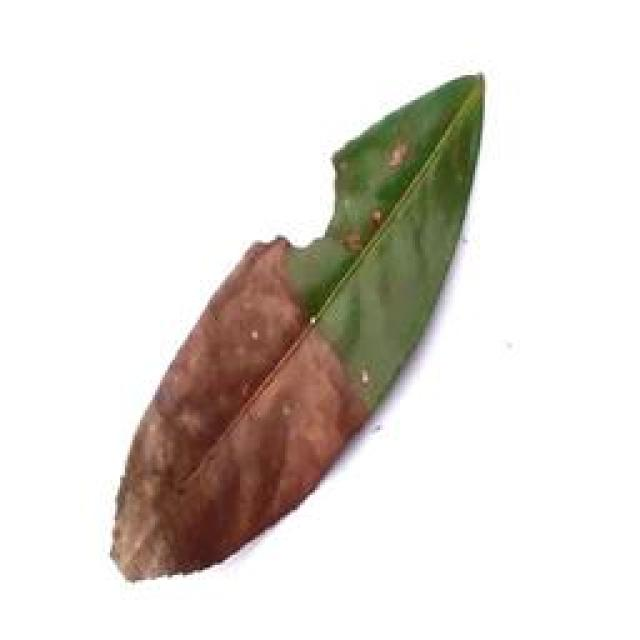Brown Blight: (90, 70, 492, 587)
